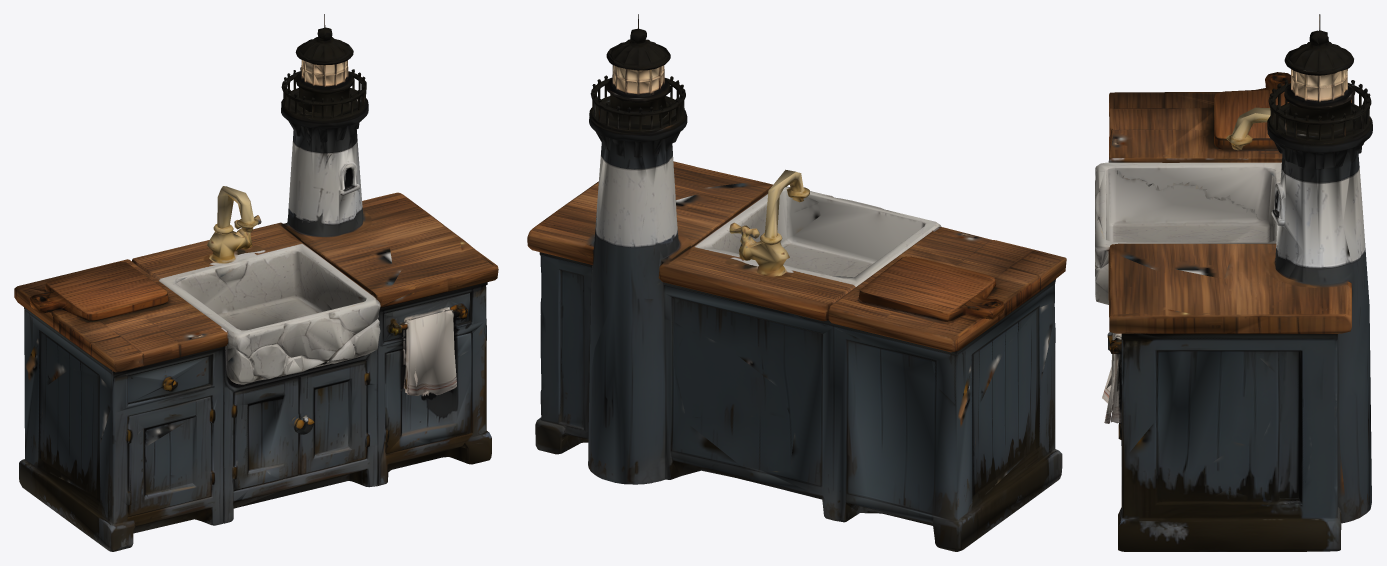
The model's file is lhi_kitchen_counter.glb.
3 views of the same model, side by side, from view 1: azimuth 30°, elevation 25°; view 2: azimuth 150°, elevation 25°; view 3: azimuth 270°, elevation 25° (orthographic). The views are drawn at different scales.
Parts seen in each view (by area): view 1: material; view 2: material; view 3: material.
Part boxes in pixels (x1,y1,x2,y2): material: (14, 14, 498, 551); material: (527, 14, 1066, 551); material: (1095, 14, 1372, 551).
Size of the model in its own units: 0.8252 by 0.8081 by 0.4164.
1 material, 1 textured.
